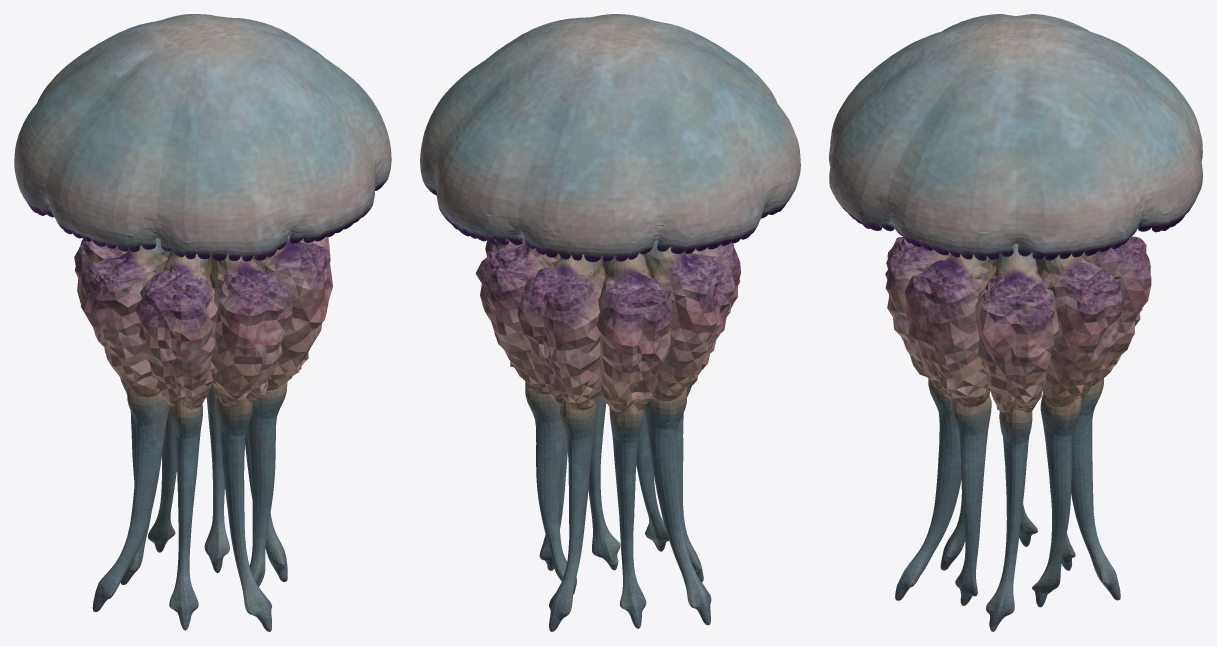
Rendered from Jellyfish_03.obj.
3 views of the same model, side by side, from view 1: azimuth 30°, elevation 25°; view 2: azimuth 150°, elevation 25°; view 3: azimuth 270°, elevation 25° (orthographic).
Parts seen in each view (by area): view 1: Jellyfish_3_Body, Jelly_Fish_03_Tenticles_01; view 2: Jellyfish_3_Body, Jelly_Fish_03_Tenticles_01; view 3: Jellyfish_3_Body, Jelly_Fish_03_Tenticles_01.
Boxes of the visible parts, x1,y1,x2,y2 form: Jellyfish_3_Body: (14, 14, 391, 261); Jelly_Fish_03_Tenticles_01: (74, 232, 332, 631); Jellyfish_3_Body: (420, 14, 800, 262); Jelly_Fish_03_Tenticles_01: (475, 234, 740, 631); Jellyfish_3_Body: (829, 14, 1202, 260); Jelly_Fish_03_Tenticles_01: (885, 236, 1151, 631).
Bounding box in the file's own units: 45.15 × 75 × 45.12.
1 material, 1 textured.
